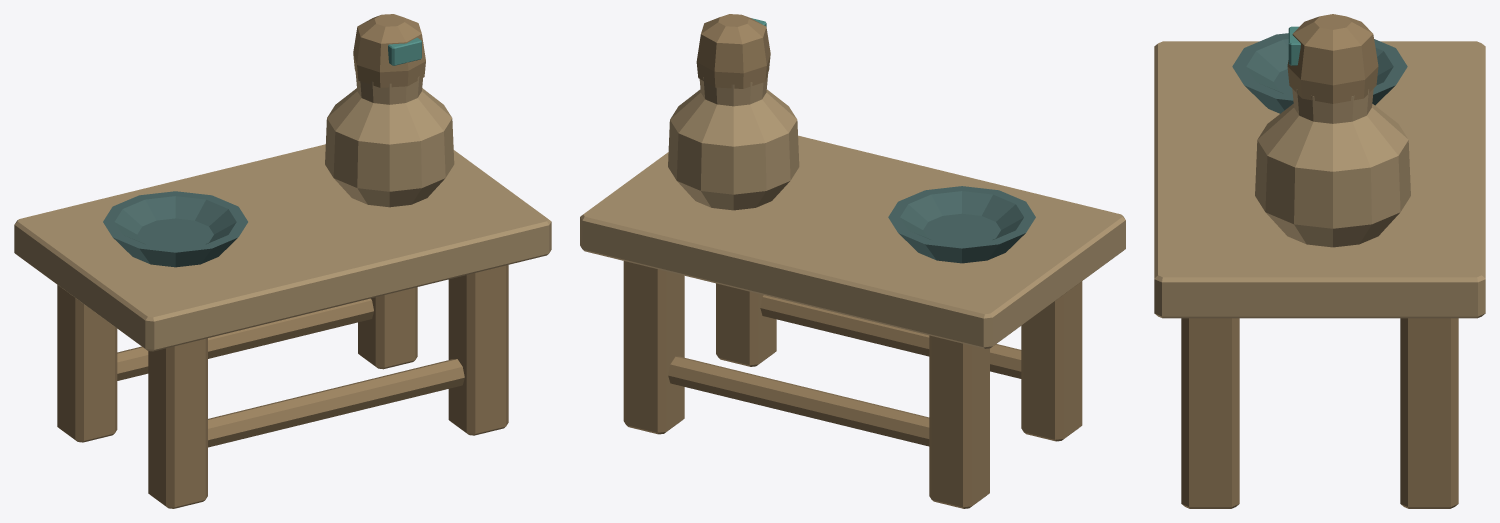
Rendered from offering-table.glb.
3 renders of one model, left to right at view 1: azimuth 30°, elevation 25°; view 2: azimuth 150°, elevation 25°; view 3: azimuth 270°, elevation 25°, orthographic. The views are drawn at different scales.
Visible parts, largest first — view 1: offering-table__body; view 2: offering-table__body; view 3: offering-table__body.
Part boxes in pixels (box(x1,y1,x2,y2)): offering-table__body: box(14, 14, 551, 508); offering-table__body: box(580, 14, 1125, 508); offering-table__body: box(1154, 14, 1485, 508).
Size of the model in its own units: 0.87 by 0.77 by 0.51.
